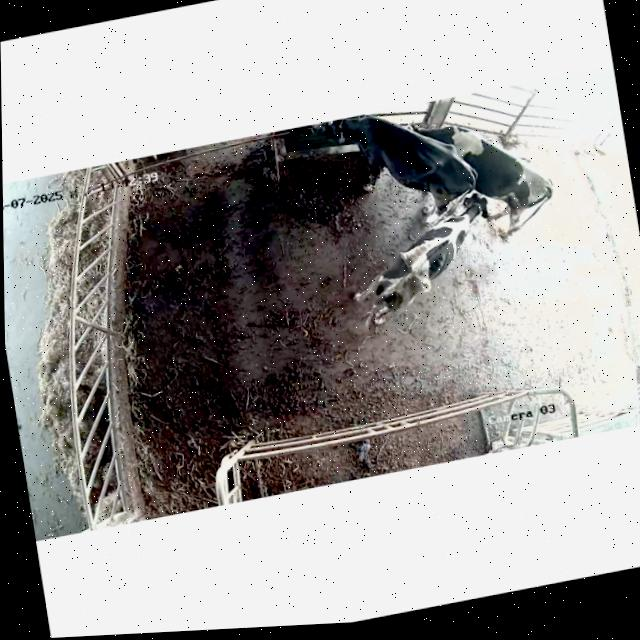drink: (306, 110, 388, 168)
stand: (331, 185, 514, 340), (404, 94, 568, 256)
